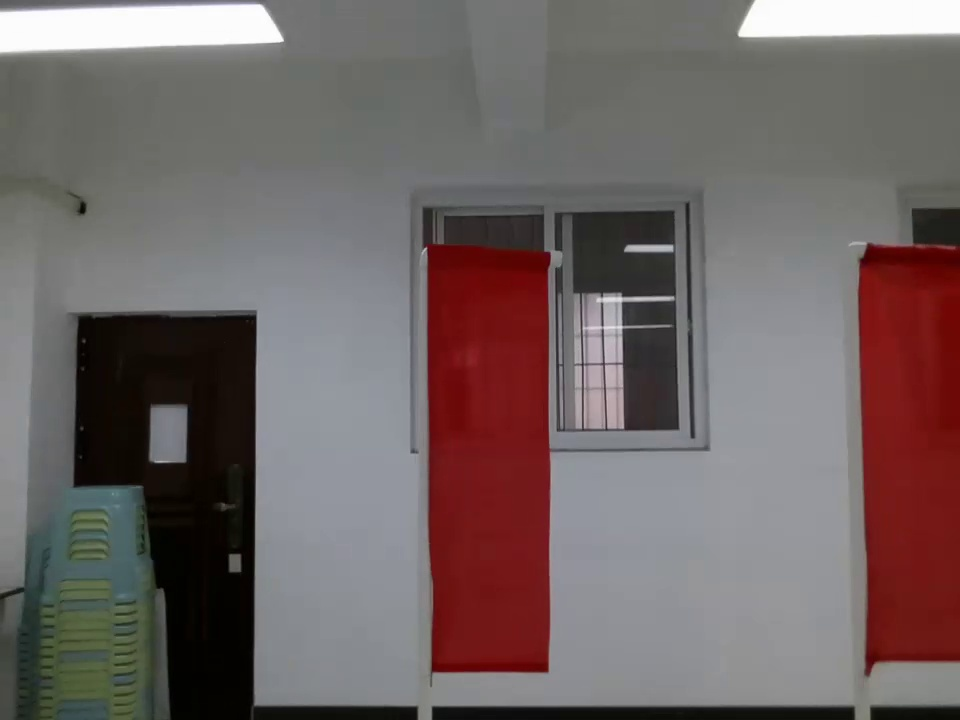qi: (403, 242, 561, 701), (829, 230, 960, 685)
